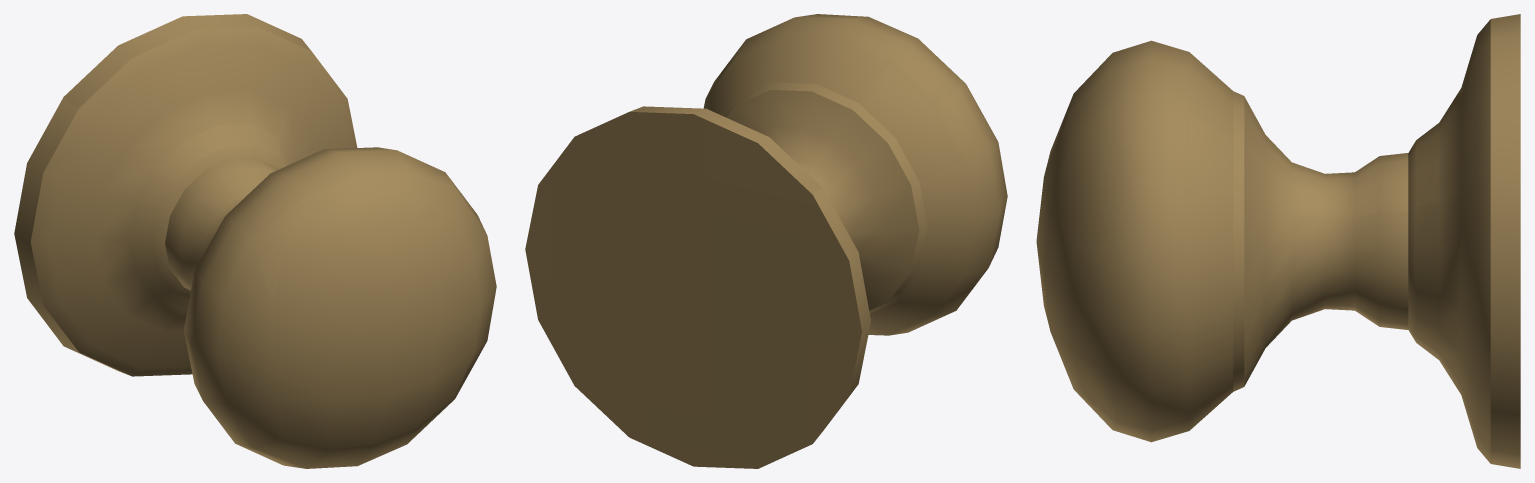
File: door_knob.glb
3 renders of one model, left to right at view 1: azimuth 30°, elevation 25°; view 2: azimuth 150°, elevation 25°; view 3: azimuth 270°, elevation 25°, orthographic. The views are drawn at different scales.
Visible parts, largest first — view 1: door_knob; view 2: door_knob; view 3: door_knob.
Part boxes in pixels (<box>): door_knob: <box>14,14,496,468</box>; door_knob: <box>525,14,1007,468</box>; door_knob: <box>1036,14,1520,468</box>.
Size of the model in its own units: 0.08 by 0.08 by 0.085.
Materials: 1 (1 with a texture image).
